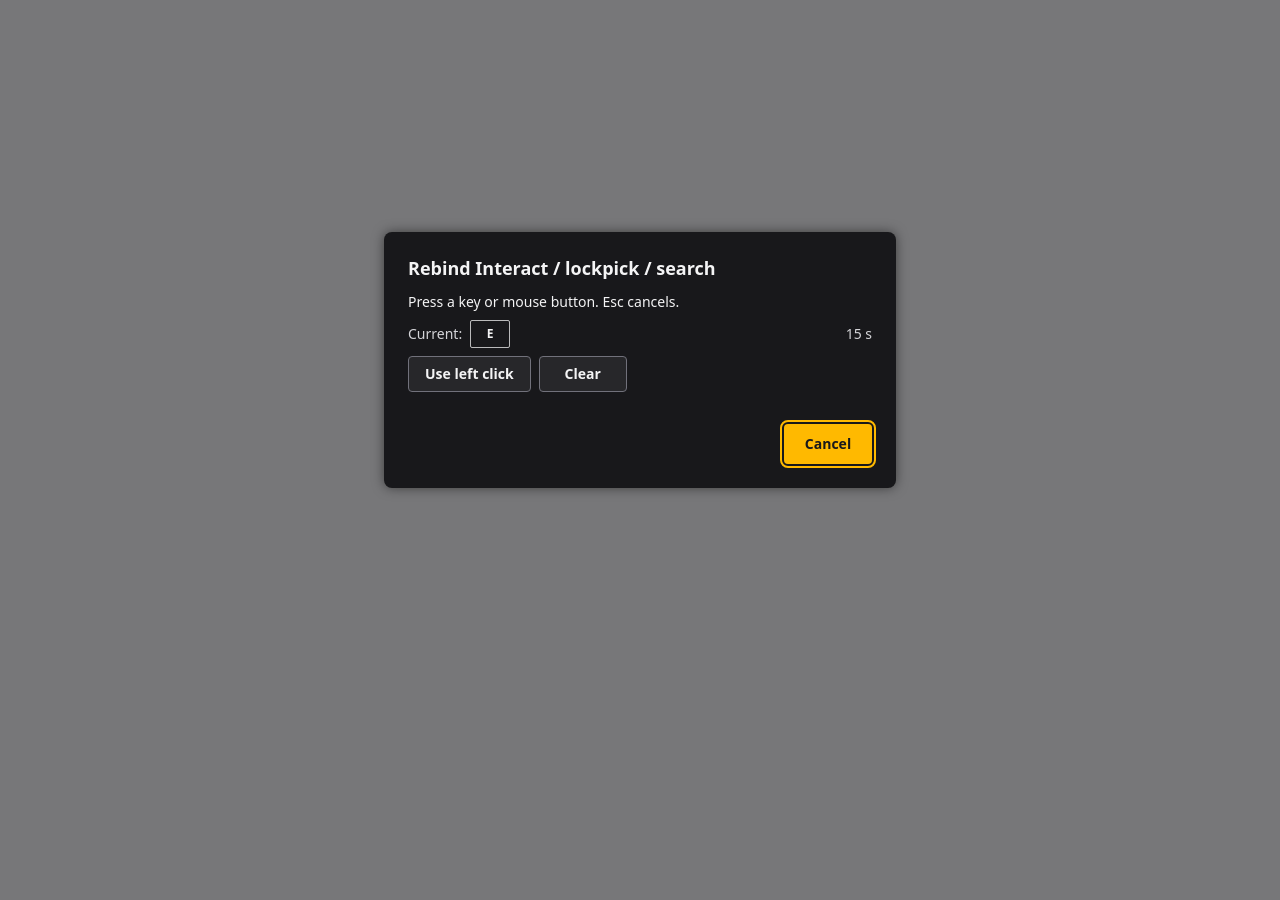
Test: CaptureDialog › Use left click shows the conflict with Fire
The width and height of the screenshot is (1280, 900).
Click the button "Use left click" at (469, 374), box [408, 356, 531, 392]
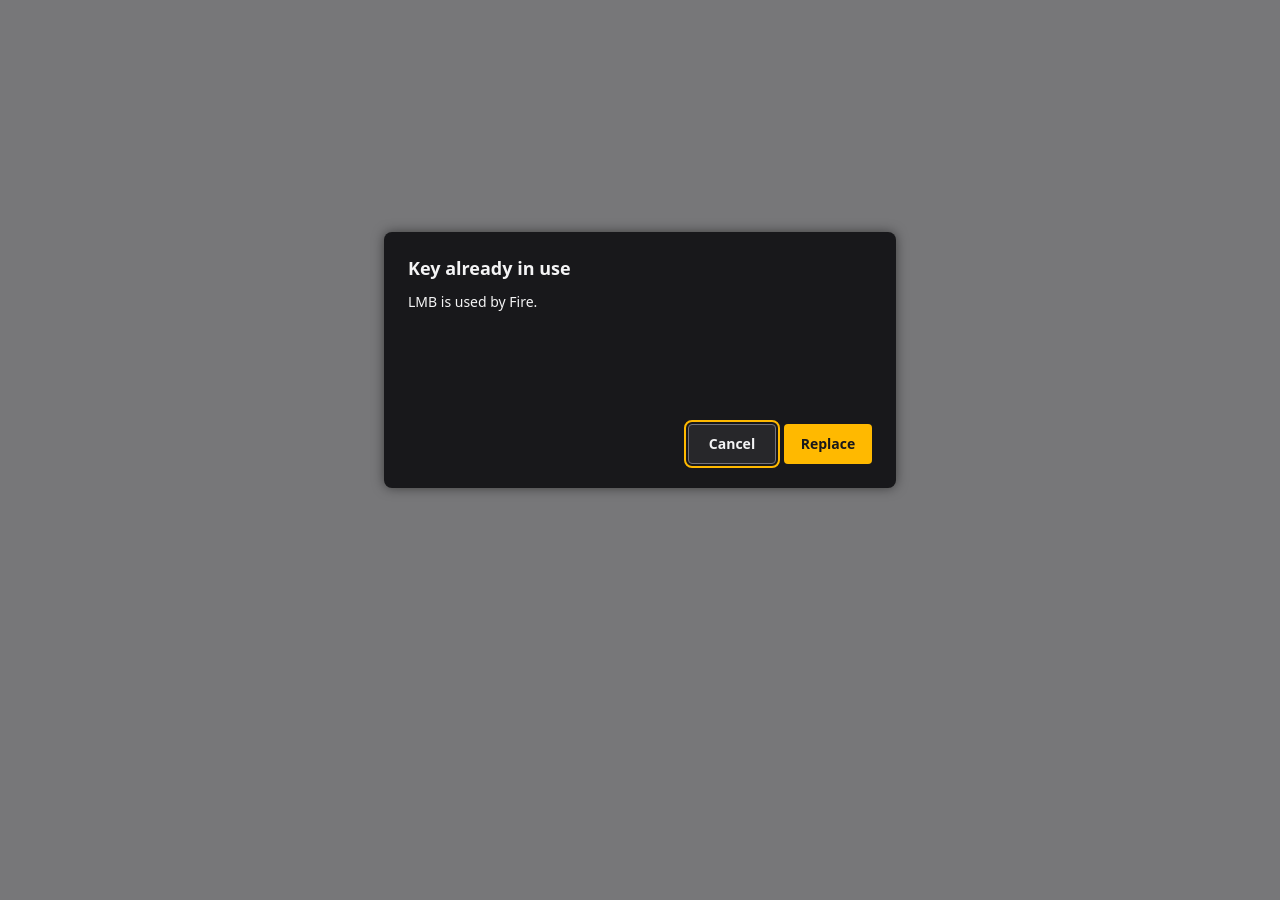
Now the text "LMB is used by Fire." is shown, box [408, 292, 537, 311]
